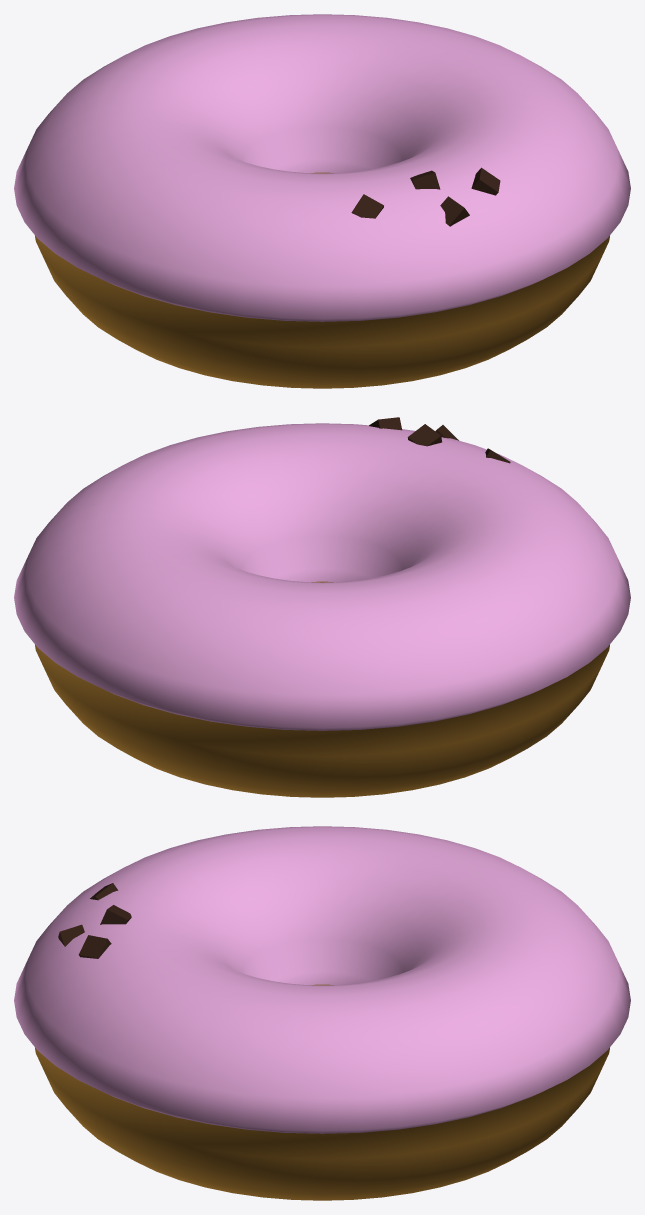
The model's file is donutPink.fbx.
3 renders of one model, top to bottom at view 1: azimuth 30°, elevation 25°; view 2: azimuth 150°, elevation 25°; view 3: azimuth 270°, elevation 25°, orthographic.
Parts seen in each view (by area): view 1: donutPink; view 2: donutPink; view 3: donutPink.
Part boxes in pixels (x1,y1,x2,y2): donutPink: [14, 14, 630, 388]; donutPink: [14, 417, 630, 797]; donutPink: [14, 826, 630, 1200].
Bounding box in the file's own units: 0.0915 × 0.0341 × 0.0915.
